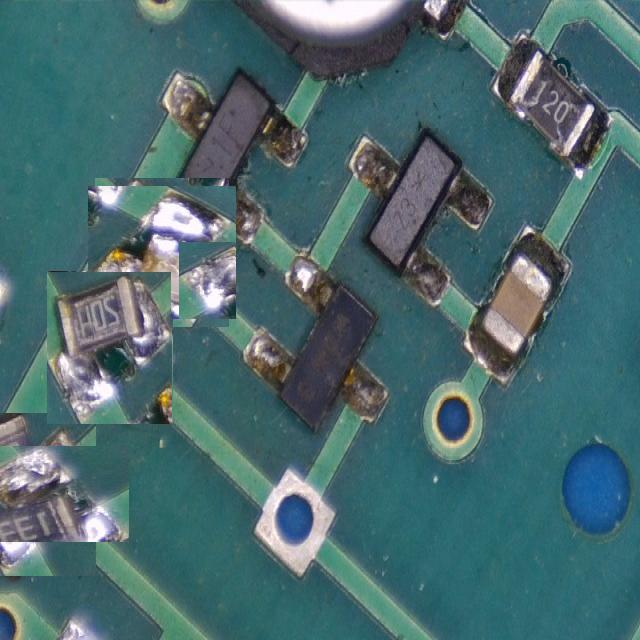Incorrect_installation: (88, 186, 235, 318), (48, 271, 171, 424), (0, 447, 129, 541)
